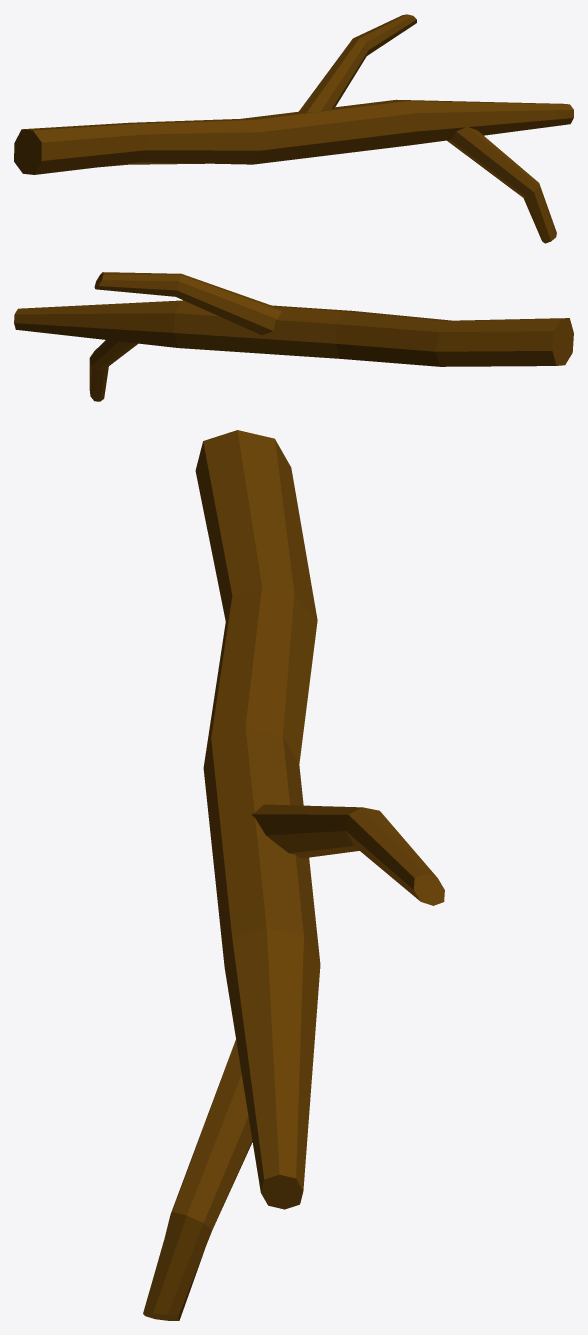
The model's file is gorilla_tag_stick.glb.
3 views of the same model, one above another, from view 1: azimuth 30°, elevation 25°; view 2: azimuth 150°, elevation 25°; view 3: azimuth 270°, elevation 25° (orthographic). The views are drawn at different scales.
Visible parts, largest first — view 1: MOD STICK; view 2: MOD STICK; view 3: MOD STICK.
Part boxes in pixels (x1,y1,x2,y2): MOD STICK: (14, 14, 573, 243); MOD STICK: (14, 272, 573, 401); MOD STICK: (143, 430, 444, 1320).
Bounding box in the file's own units: 0.4157 × 0.1561 × 0.1007.
